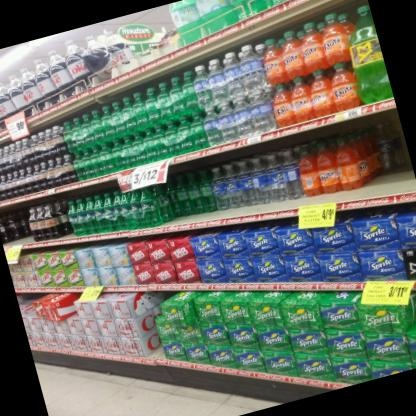empty_space: (119, 13, 182, 76), (382, 164, 416, 198)
